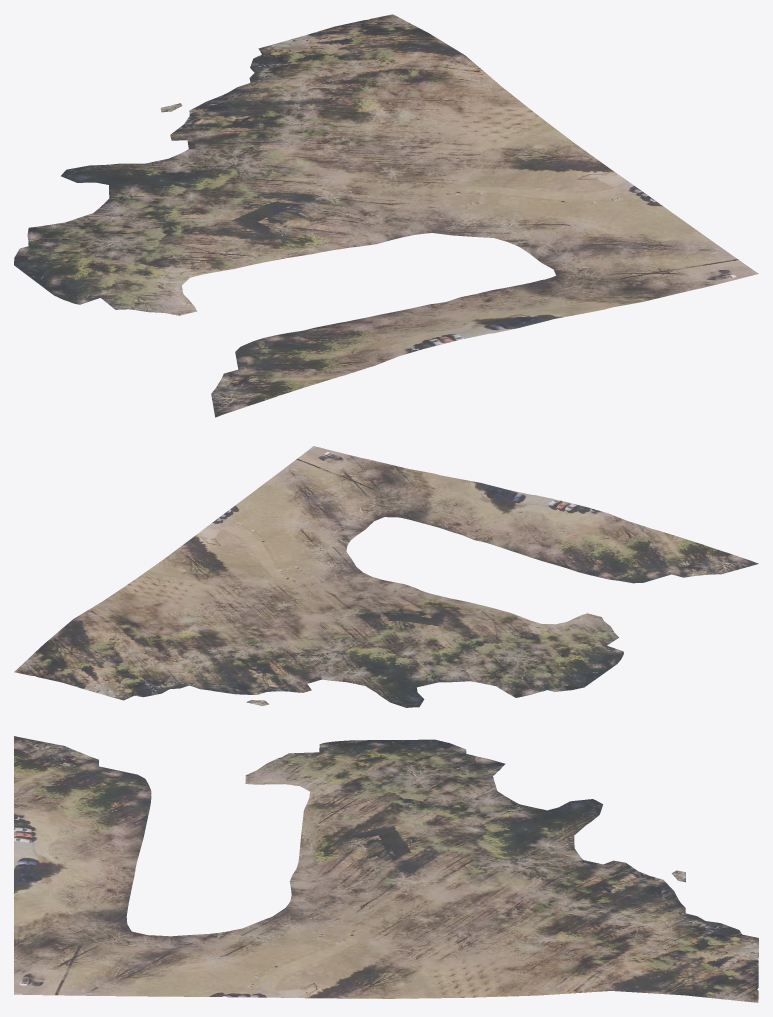
Rendered from CM_Terrain_24488206_6822865.fbx.
The picture shows the model from 3 angles, top to bottom: view 1: azimuth 30°, elevation 25°; view 2: azimuth 150°, elevation 25°; view 3: azimuth 270°, elevation 25°; orthographic projection. The views are drawn at different scales.
Visible parts, largest first — view 1: CM_Terrain_24488206_6822865_LOD0; view 2: CM_Terrain_24488206_6822865_LOD0; view 3: CM_Terrain_24488206_6822865_LOD0.
Boxes of the visible parts, x1,y1,x2,y2 form: CM_Terrain_24488206_6822865_LOD0: (14,14,758,417); CM_Terrain_24488206_6822865_LOD0: (14,446,758,707); CM_Terrain_24488206_6822865_LOD0: (14,736,758,1002).
Size of what is drawn, in the model's own units: 130 by 4.46 by 152.
